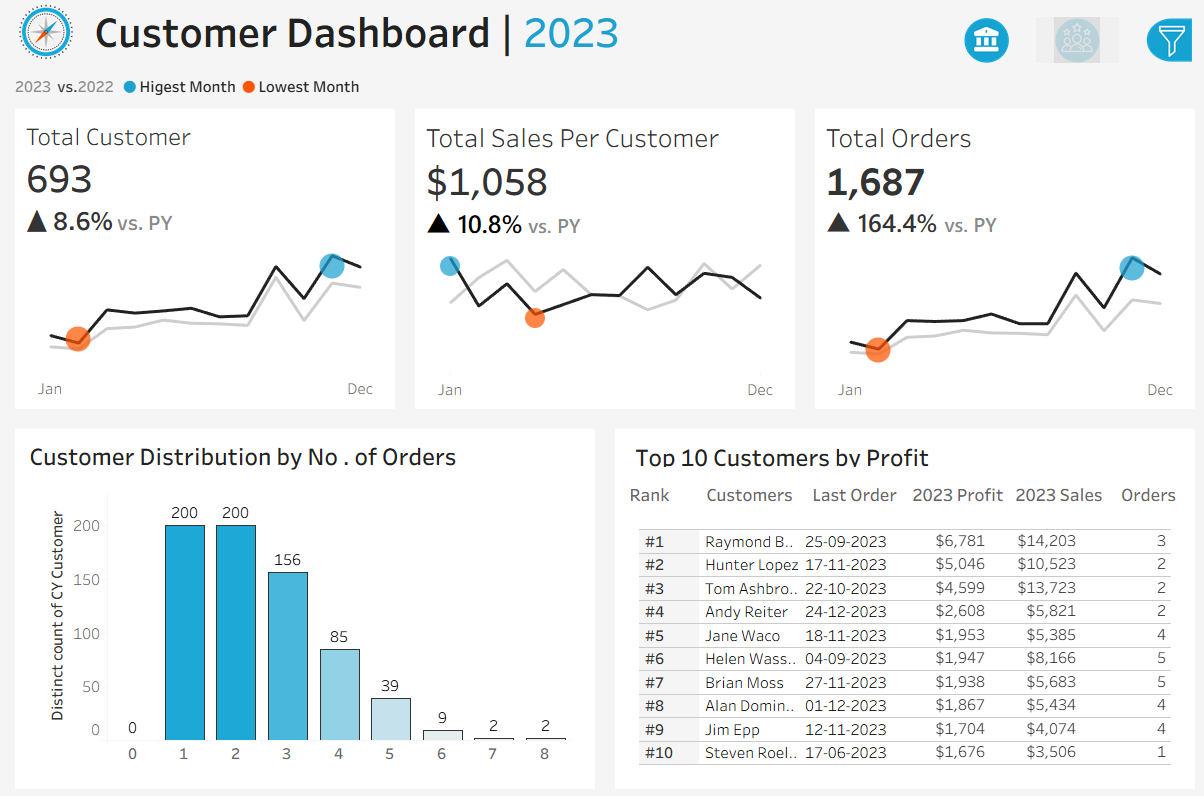

This screenshot's page, from the dashboard's own definition file:
{"tool":"tableau","page":{"name":"Cutomer Dasboard","canvas":[1200,800],"ordinal":0},"visuals":[{"type":"image","param":"Image/Icon - Logo.png","box":[0,0,82,65]},{"type":"text","box":[82,0,1118,65]},{"type":"dashboard-object","box":[935,14,92,54]},{"type":"dashboard-object","box":[1027,14,91,54]},{"type":"text","box":[941,31,241,40]},{"type":"worksheet","title":"Legend KPI","mark":"Automatic","box":[0,65,1200,45]},{"type":"parameter","param":"[Parameters].[Parameter 1]","box":[941,71,241,56]},{"type":"worksheet","title":"KPI Customer","mark":"Automatic","rows":["Min/Max Profit (copy)_1409345225943216138"],"cols":["Order Date"],"box":[0,110,400,310]},{"type":"worksheet","title":"KPI Sales Per Customer","mark":"Automatic","rows":["Calculation_808677626291019780"],"cols":["Order Date"],"box":[400,110,400,310]},{"type":"worksheet","title":"KPI Orders","mark":"Automatic","rows":["Min/Max Customer (copy)_1409345225973518355"],"cols":["Order Date"],"box":[800,110,400,310]},{"type":"blank","box":[941,127,241,41]},{"type":"text","box":[941,168,241,33]},{"type":"filter","title":"KPI Customer","param":"[federated.0ych6l61m37cuh11uxli60rynfbu].[none:Category:nk]","box":[941,201,241,61]},{"type":"filter","title":"KPI Customer","param":"[federated.0ych6l61m37cuh11uxli60rynfbu].[none:Sub-Category:nk]","box":[941,262,241,61]},{"type":"text","box":[941,323,241,33]},{"type":"filter","title":"KPI Customer","param":"[federated.0ych6l61m37cuh11uxli60rynfbu].[none:Region:nk]","box":[941,356,241,61]},{"type":"filter","title":"KPI Customer","param":"[federated.0ych6l61m37cuh11uxli60rynfbu].[none:State:nk]","box":[941,417,241,61]},{"type":"text","box":[17,437,566,40]},{"type":"text","box":[617,437,566,41]},{"type":"worksheet","title":"Customer Distrubution","mark":"Bar","rows":["Calculation_1409345225935994884"],"cols":["Calculation_1463669897180217344"],"box":[17,477,566,306]},{"type":"text","box":[617,478,77,35]},{"type":"text","box":[694,478,106,35]},{"type":"text","box":[800,478,100,35]},{"type":"text","box":[900,478,103,35]},{"type":"filter","title":"KPI Customer","param":"[federated.0ych6l61m37cuh11uxli60rynfbu].[none:City:nk]","box":[941,478,241,61]},{"type":"text","box":[1003,478,102,35]},{"type":"text","box":[1105,478,78,35]},{"type":"worksheet","title":"Top Customer","mark":"Automatic","rows":["Calculation_1463669897189343235","Customer Name","Order Date"],"box":[617,513,566,270]}]}

Visuals, with their boxes in screenshot pixels (x1, y1, x2, y2), scaled from the page's 1200x800 canvas onto the 1204x796 screenshot:
image: <box>0,0,82,65</box>
text: <box>82,0,1203,65</box>
dashboard-object: <box>938,14,1030,68</box>
dashboard-object: <box>1030,14,1122,68</box>
text: <box>944,31,1186,71</box>
"Legend KPI" worksheet: <box>0,65,1203,109</box>
parameter: <box>944,71,1186,126</box>
"KPI Customer" worksheet: <box>0,109,401,418</box>
"KPI Sales Per Customer" worksheet: <box>401,109,803,418</box>
"KPI Orders" worksheet: <box>803,109,1203,418</box>
blank: <box>944,126,1186,167</box>
text: <box>944,167,1186,200</box>
"KPI Customer" filter: <box>944,200,1186,261</box>
"KPI Customer" filter: <box>944,261,1186,321</box>
text: <box>944,321,1186,354</box>
"KPI Customer" filter: <box>944,354,1186,415</box>
"KPI Customer" filter: <box>944,415,1186,476</box>
text: <box>17,435,585,475</box>
text: <box>619,435,1187,476</box>
"Customer Distrubution" worksheet (Bar marks): <box>17,475,585,779</box>
text: <box>619,476,696,510</box>
text: <box>696,476,803,510</box>
text: <box>803,476,903,510</box>
text: <box>903,476,1006,510</box>
"KPI Customer" filter: <box>944,476,1186,536</box>
text: <box>1006,476,1109,510</box>
text: <box>1109,476,1187,510</box>
"Top Customer" worksheet: <box>619,510,1187,779</box>
